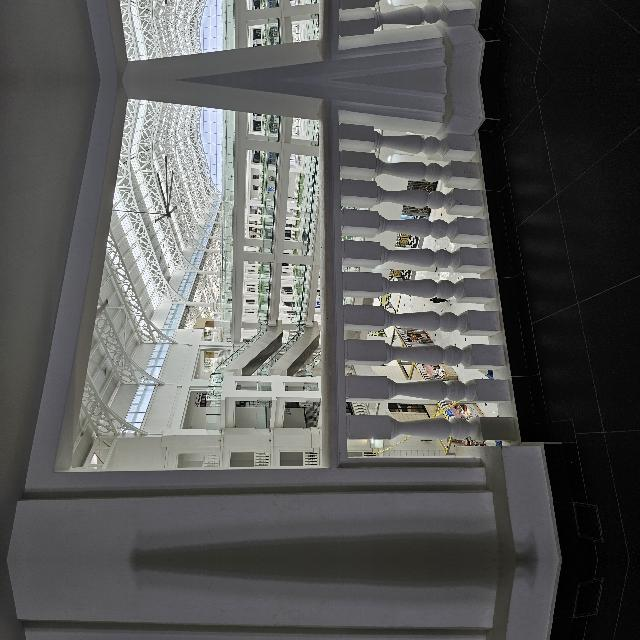obstacle: (86, 398, 452, 584), (86, 536, 451, 640)
